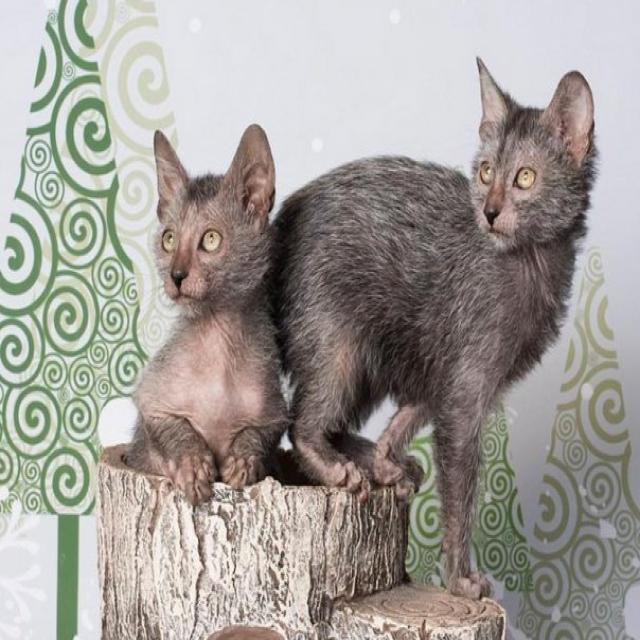Lykoi: (268, 51, 604, 599), (124, 120, 290, 504)
